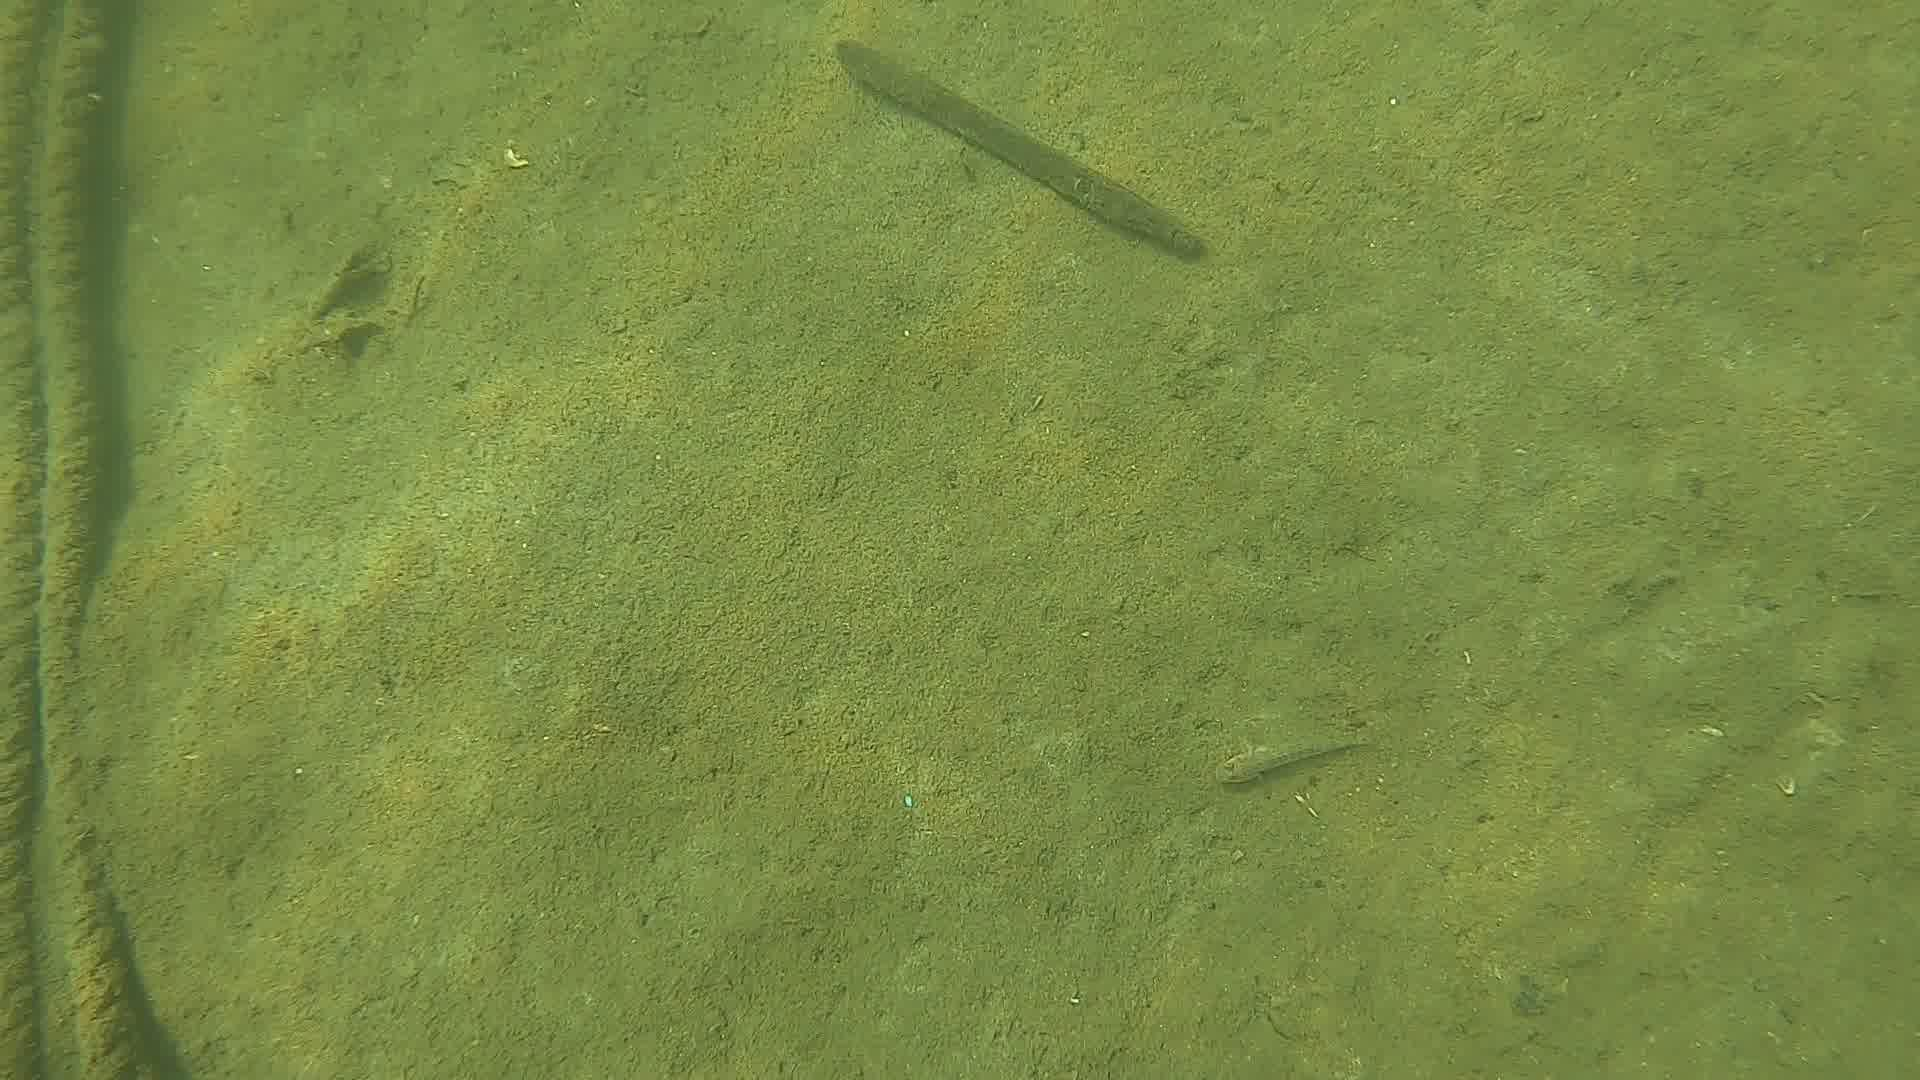bundle of ropes: (0, 0, 152, 1080)
wood: (829, 36, 1211, 258)
